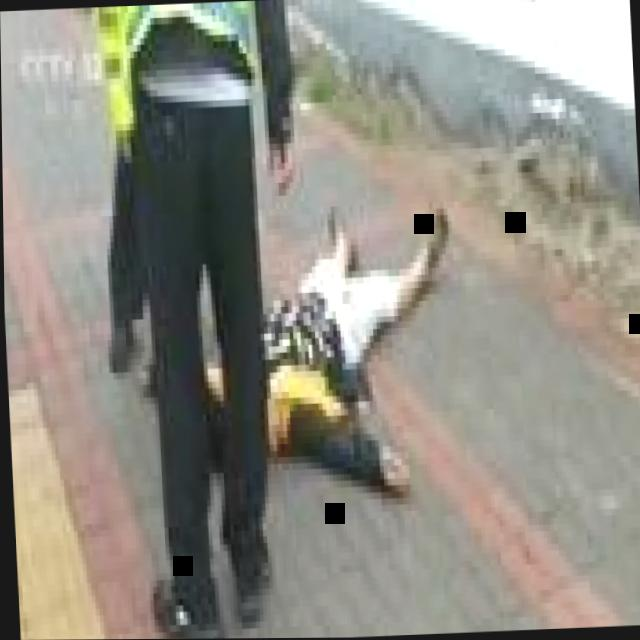Fall-Detected: (140, 182, 477, 515)
